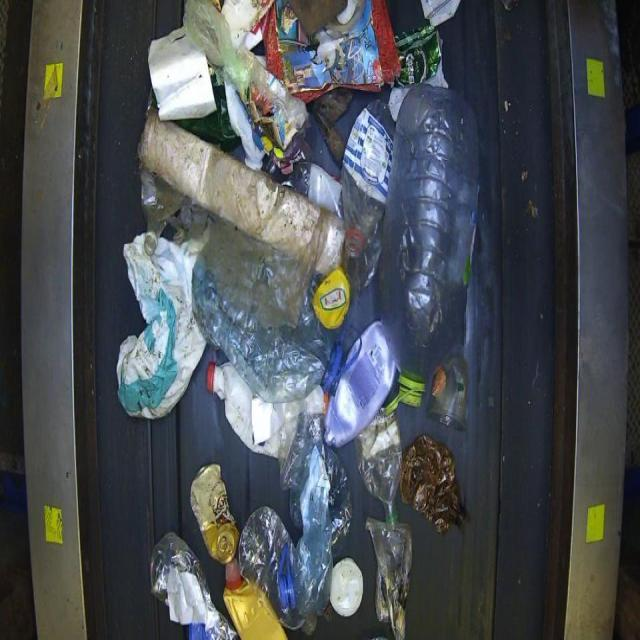cups: (323, 319, 397, 448)
other-trash: (116, 0, 483, 638)
